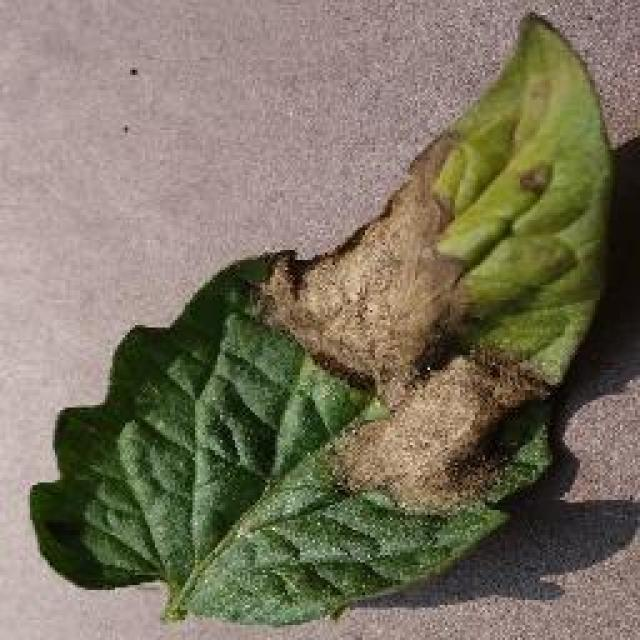Tomato Late Blight: (273, 50, 550, 510)
